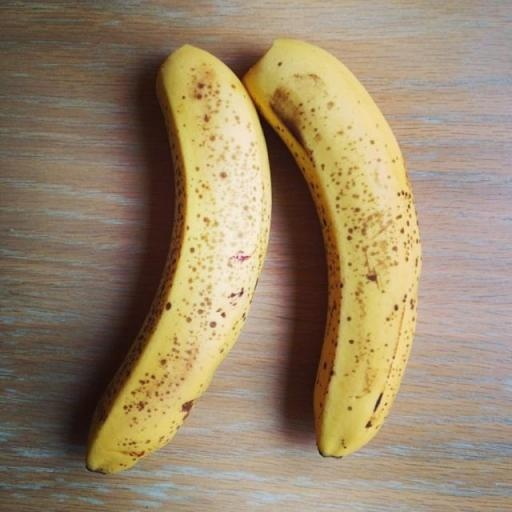fruit: (87, 46, 270, 472), (244, 40, 421, 456)
